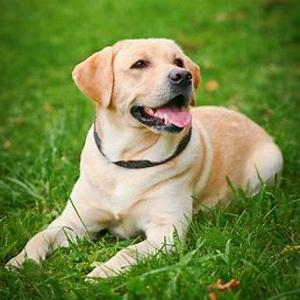dog: (59, 43, 283, 240)
